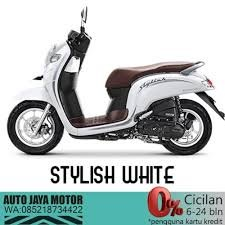motor: (15, 27, 217, 156)
